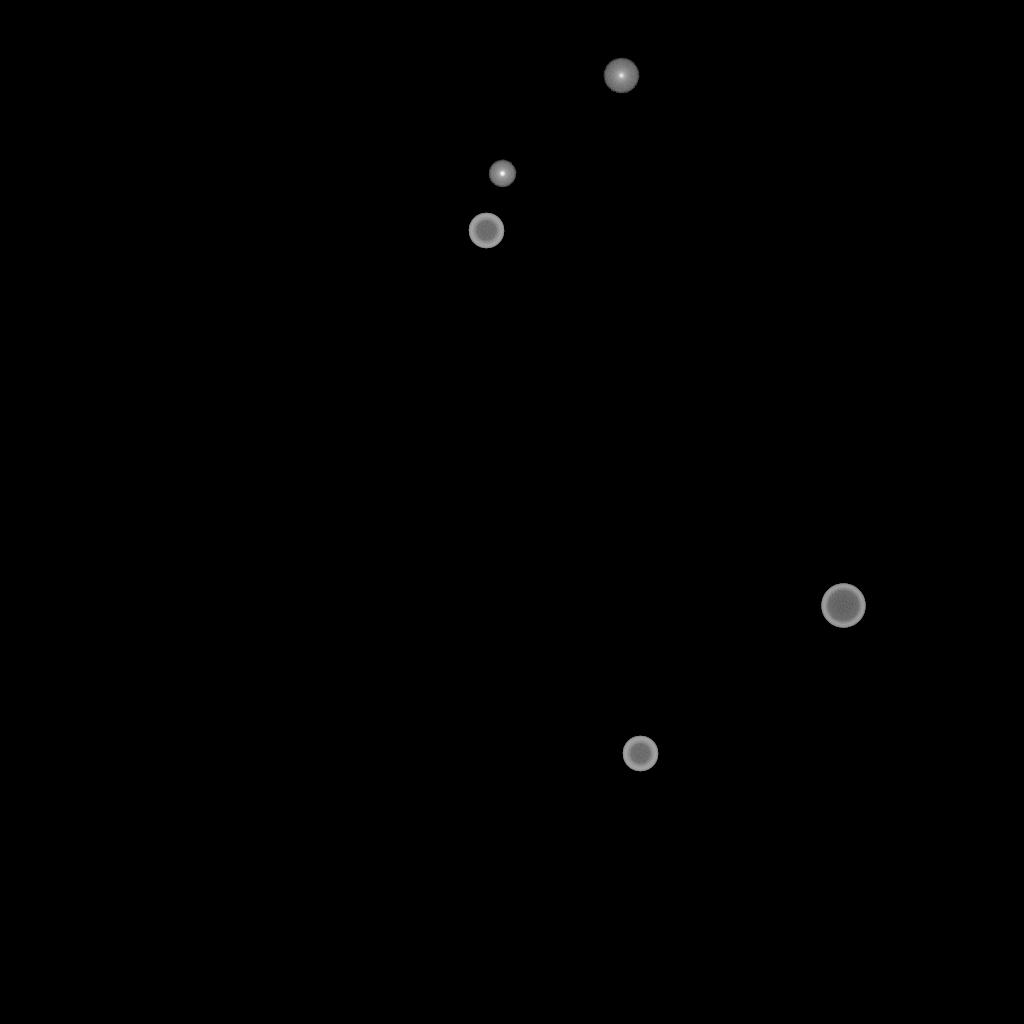depth:-10: (488, 160, 516, 188)
depth:-60: (622, 736, 658, 772), (468, 213, 504, 249)
depth:-70: (821, 584, 865, 628)
depth:0: (603, 58, 639, 94)
